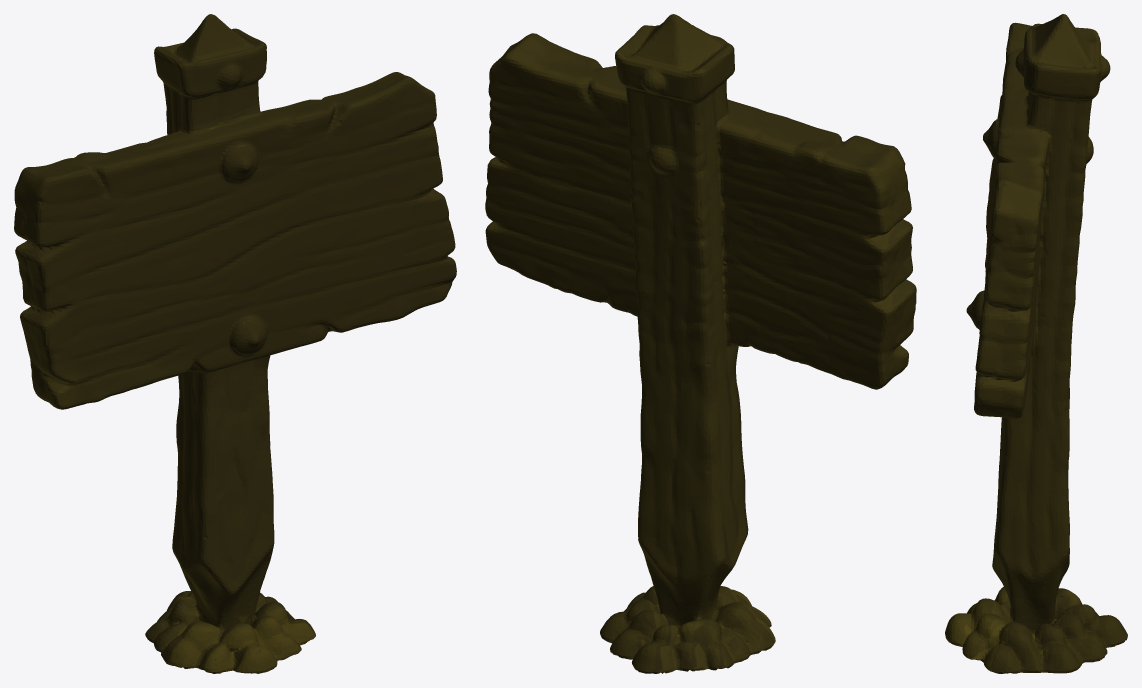
File: placa_fincada.glb
The picture shows the model from 3 angles, left to right: view 1: azimuth 30°, elevation 25°; view 2: azimuth 150°, elevation 25°; view 3: azimuth 270°, elevation 25°; orthographic projection. The views are drawn at different scales.
Parts seen in each view (by area): view 1: tmpbwu1xj7m.ply; view 2: tmpbwu1xj7m.ply; view 3: tmpbwu1xj7m.ply.
Boxes of the visible parts, x1,y1,x2,y2 form: tmpbwu1xj7m.ply: (14,14,456,673); tmpbwu1xj7m.ply: (485,14,916,673); tmpbwu1xj7m.ply: (945,14,1127,673).
Size of the model in its own units: 1.35 by 1.96 by 0.519.
Materials: 1 (1 with a texture image).
